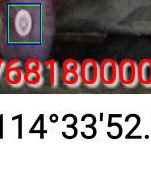text: (8, 5, 41, 42)
